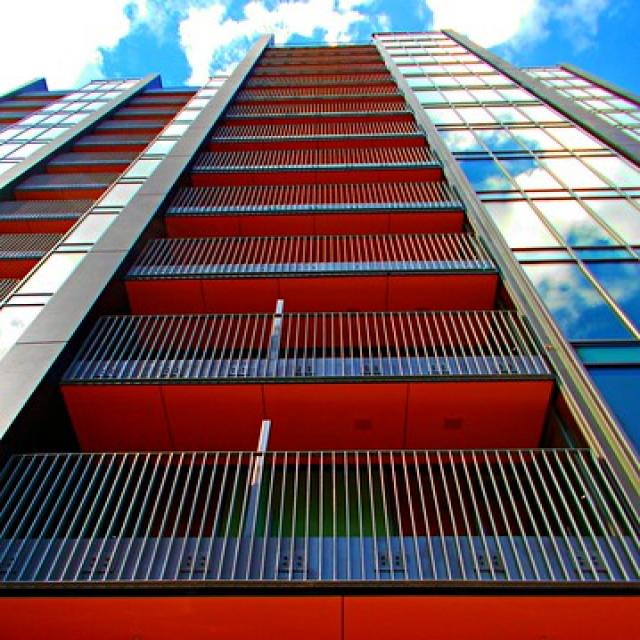Normal_building: (5, 11, 640, 640)
